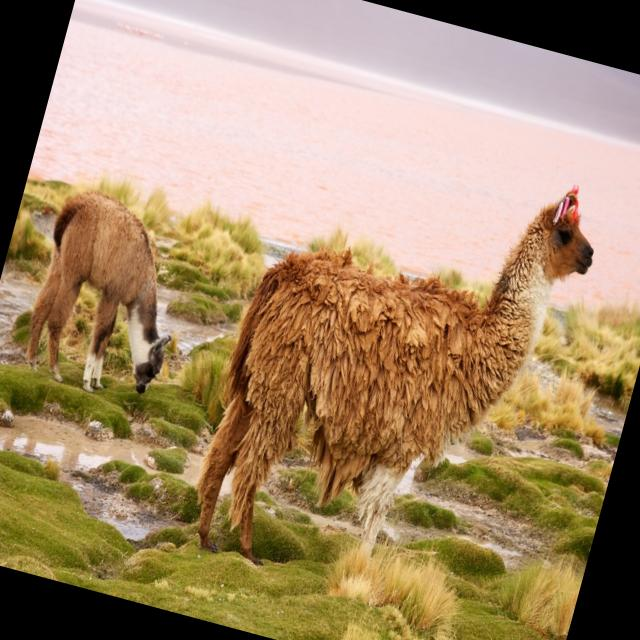alpaca: (176, 106, 612, 626), (15, 180, 204, 410)
